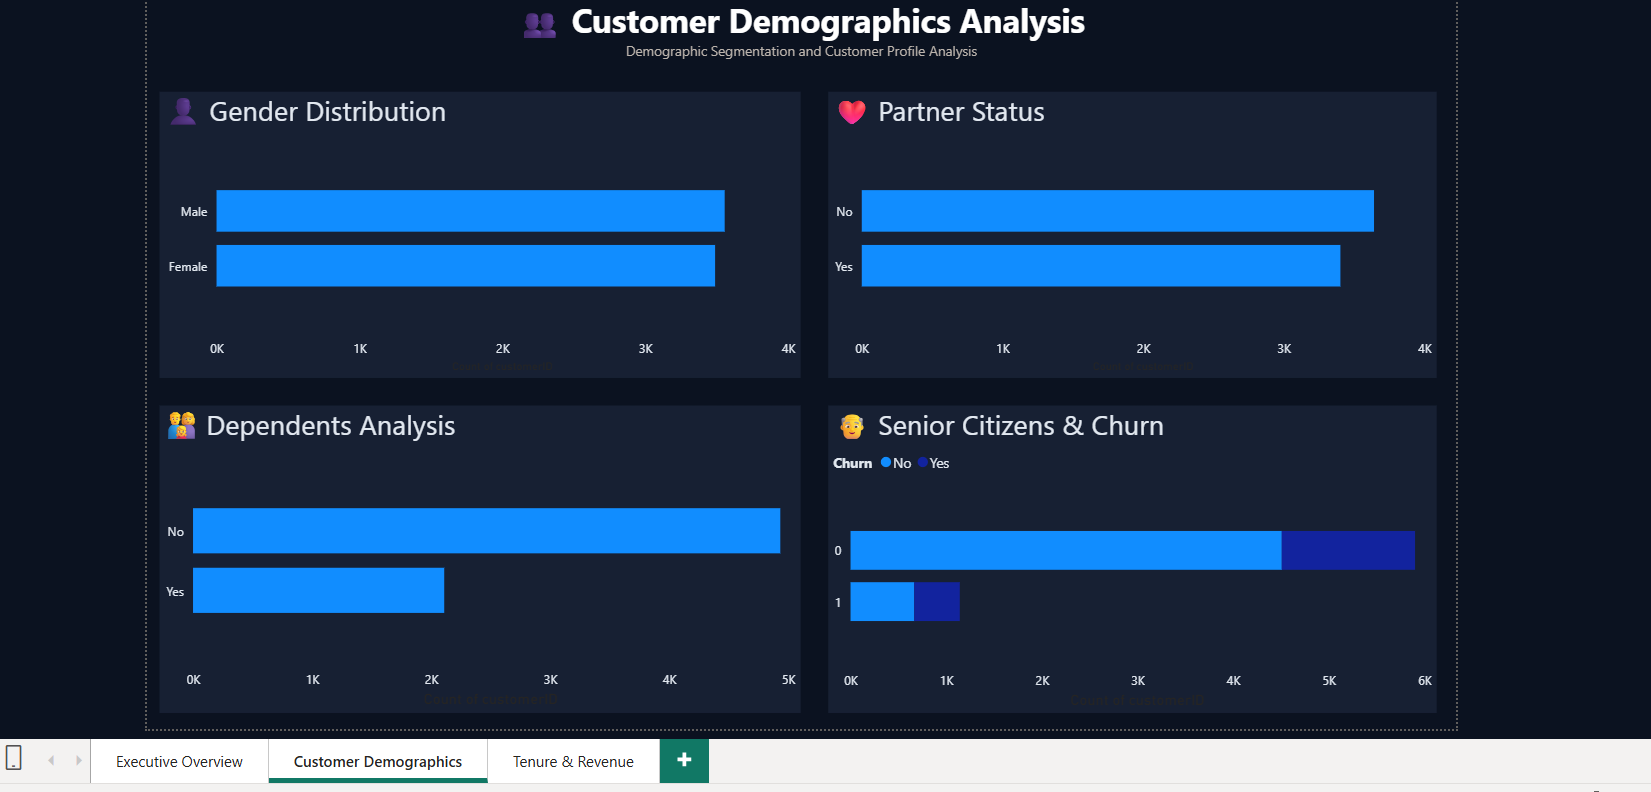

What the dashboard file says about the page in this screenshot:
{"tool":"powerbi","page":{"name":"Customer Demographics","canvas":[1280,720],"ordinal":1},"visuals":[{"type":"barChart","title":"👤 Gender Distribution","fields":{"Category":["CustomerChurn.gender"],"Y":["CountNonNull(CustomerChurn.customerID)"]},"box":[12.2,96.6,627.3,280],"z":0},{"type":"barChart","title":"❤️ Partner Status","fields":{"Category":["CustomerChurn.Partner"],"Y":["CountNonNull(CustomerChurn.customerID)"]},"box":[666.4,96.6,595.5,280],"z":1000},{"type":"barChart","title":"👨👩👧 Dependents Analysis","fields":{"Category":["CustomerChurn.Dependents"],"Y":["CountNonNull(CustomerChurn.customerID)"]},"box":[12.2,403.5,627.3,300.8],"z":2000},{"type":"barChart","title":"👴 Senior Citizens & Churn","fields":{"Category":["CustomerChurn.SeniorCitizen"],"Y":["CountNonNull(CustomerChurn.customerID)"],"Series":["CustomerChurn.Churn"]},"box":[666.4,403.5,595.5,300.8],"z":3000},{"type":"textbox","box":[0,0,1280.3,72.1],"z":4000}]}

Visuals, with their boxes on the page's 1280x720 design canvas (x1, y1, x2, y2). These are canvas units, not pixel positions in the 1651x792 screenshot, which may show the page scaled, cropped or inside an application window:
"👤 Gender Distribution" barChart: [left=12, top=97, right=640, bottom=377]
"❤️ Partner Status" barChart: [left=666, top=97, right=1262, bottom=377]
"👨👩👧 Dependents Analysis" barChart: [left=12, top=404, right=640, bottom=704]
"👴 Senior Citizens & Churn" barChart: [left=666, top=404, right=1262, bottom=704]
textbox: [left=0, top=0, right=1280, bottom=72]
